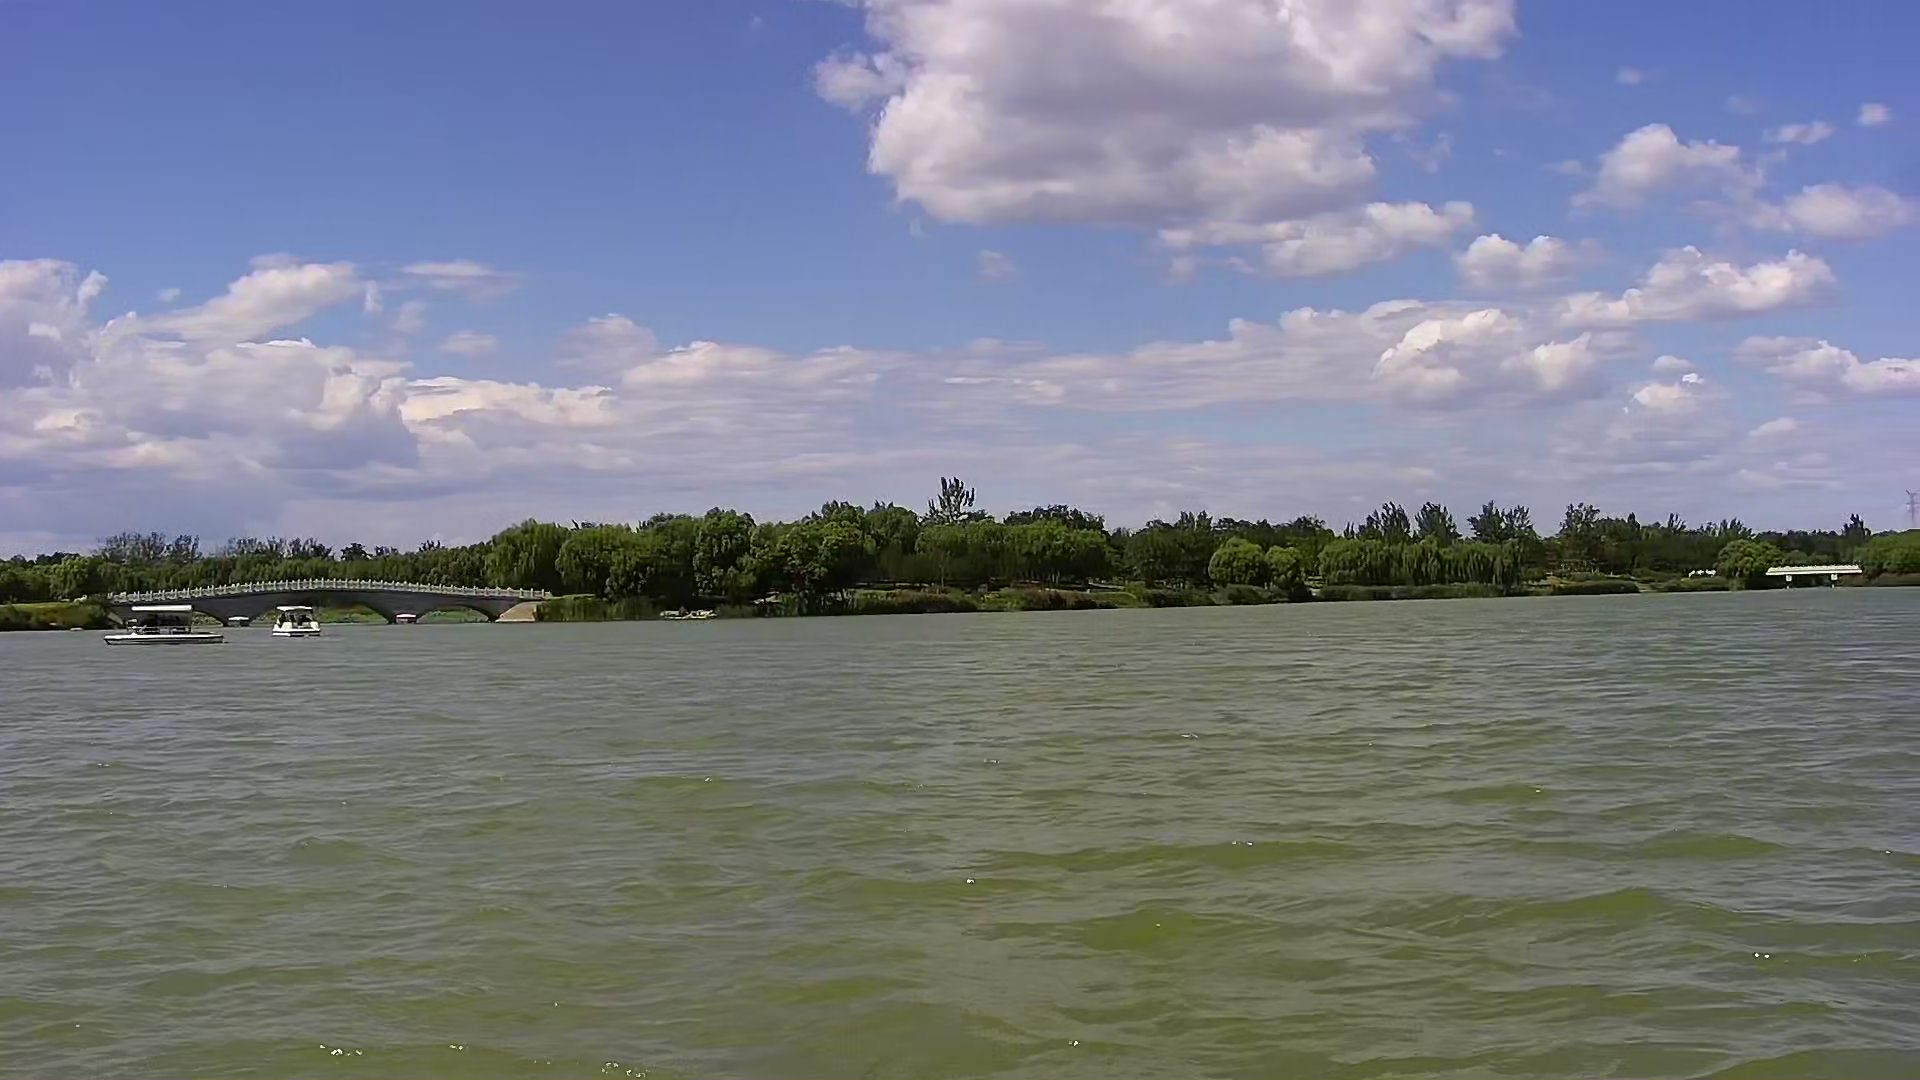boat: (91, 603, 235, 654), (269, 597, 327, 647)
bridge: (105, 578, 556, 628)
